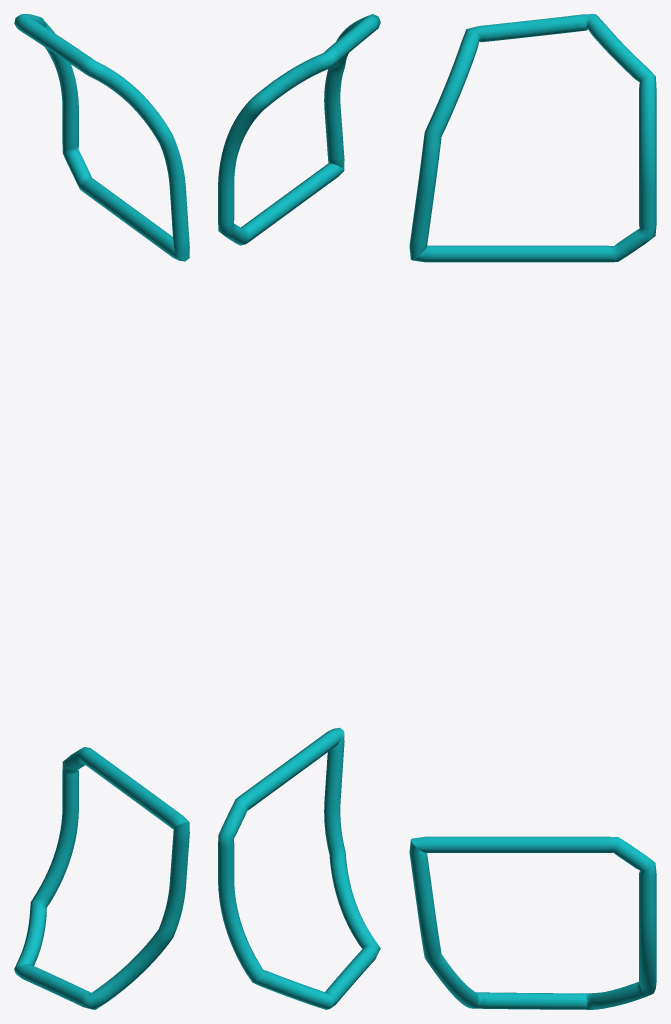
Rendered from base_teal.obj.
3 views of the same model, side by side, from view 1: azimuth 30°, elevation 25°; view 2: azimuth 150°, elevation 25°; view 3: azimuth 270°, elevation 25° (orthographic). The views are drawn at different scales.
Parts seen in each view (by area): view 1: base_teal; view 2: base_teal; view 3: base_teal.
Part boxes in pixels (x1=…): base_teal: x1=14, y1=14, x2=189, y2=1009; base_teal: x1=218, y1=14, x2=380, y2=1009; base_teal: x1=409, y1=14, x2=656, y2=1009.
Size of the model in its own units: 0.0134 by 0.1381 by 0.0311.
